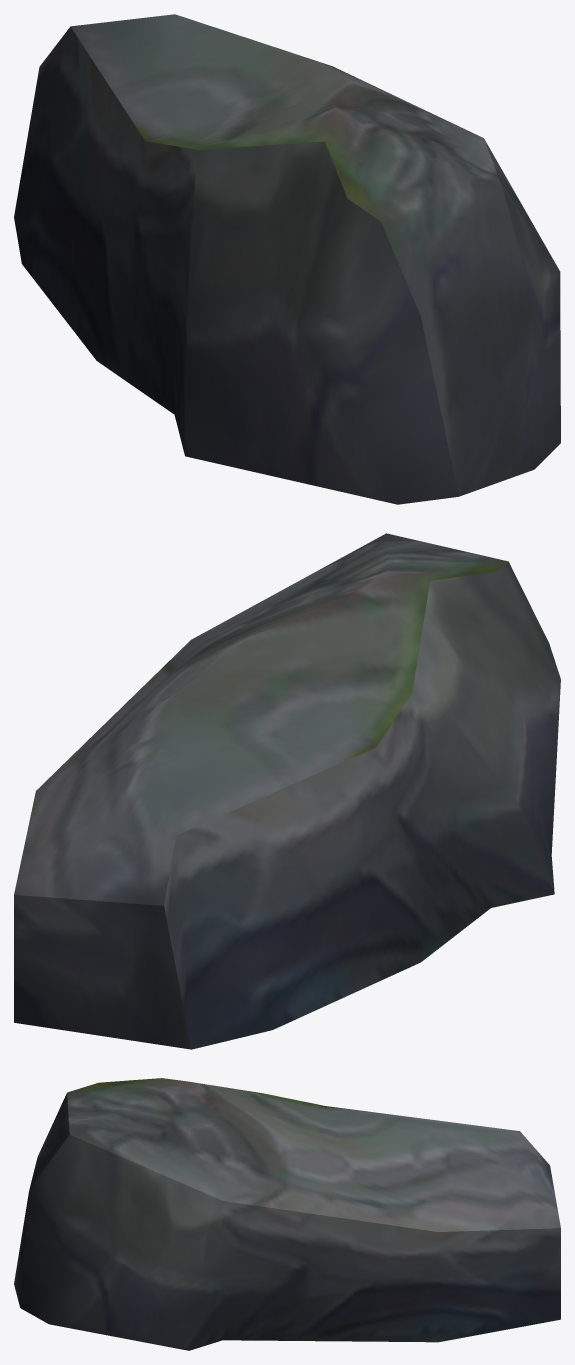
The model's file is FB1_shanshi04.FBX.
The picture shows the model from 3 angles, top to bottom: view 1: azimuth 30°, elevation 25°; view 2: azimuth 150°, elevation 25°; view 3: azimuth 270°, elevation 25°; orthographic projection. The views are drawn at different scales.
Visible parts, largest first — view 1: FB1_shanshi04; view 2: FB1_shanshi04; view 3: FB1_shanshi04.
Part boxes in pixels (<box>): FB1_shanshi04: <box>14,14,560,504</box>; FB1_shanshi04: <box>14,533,560,1049</box>; FB1_shanshi04: <box>14,1078,560,1350</box>.
Bounding box in the file's own units: 68486 × 52371 × 127293.
1 material, 1 textured.
